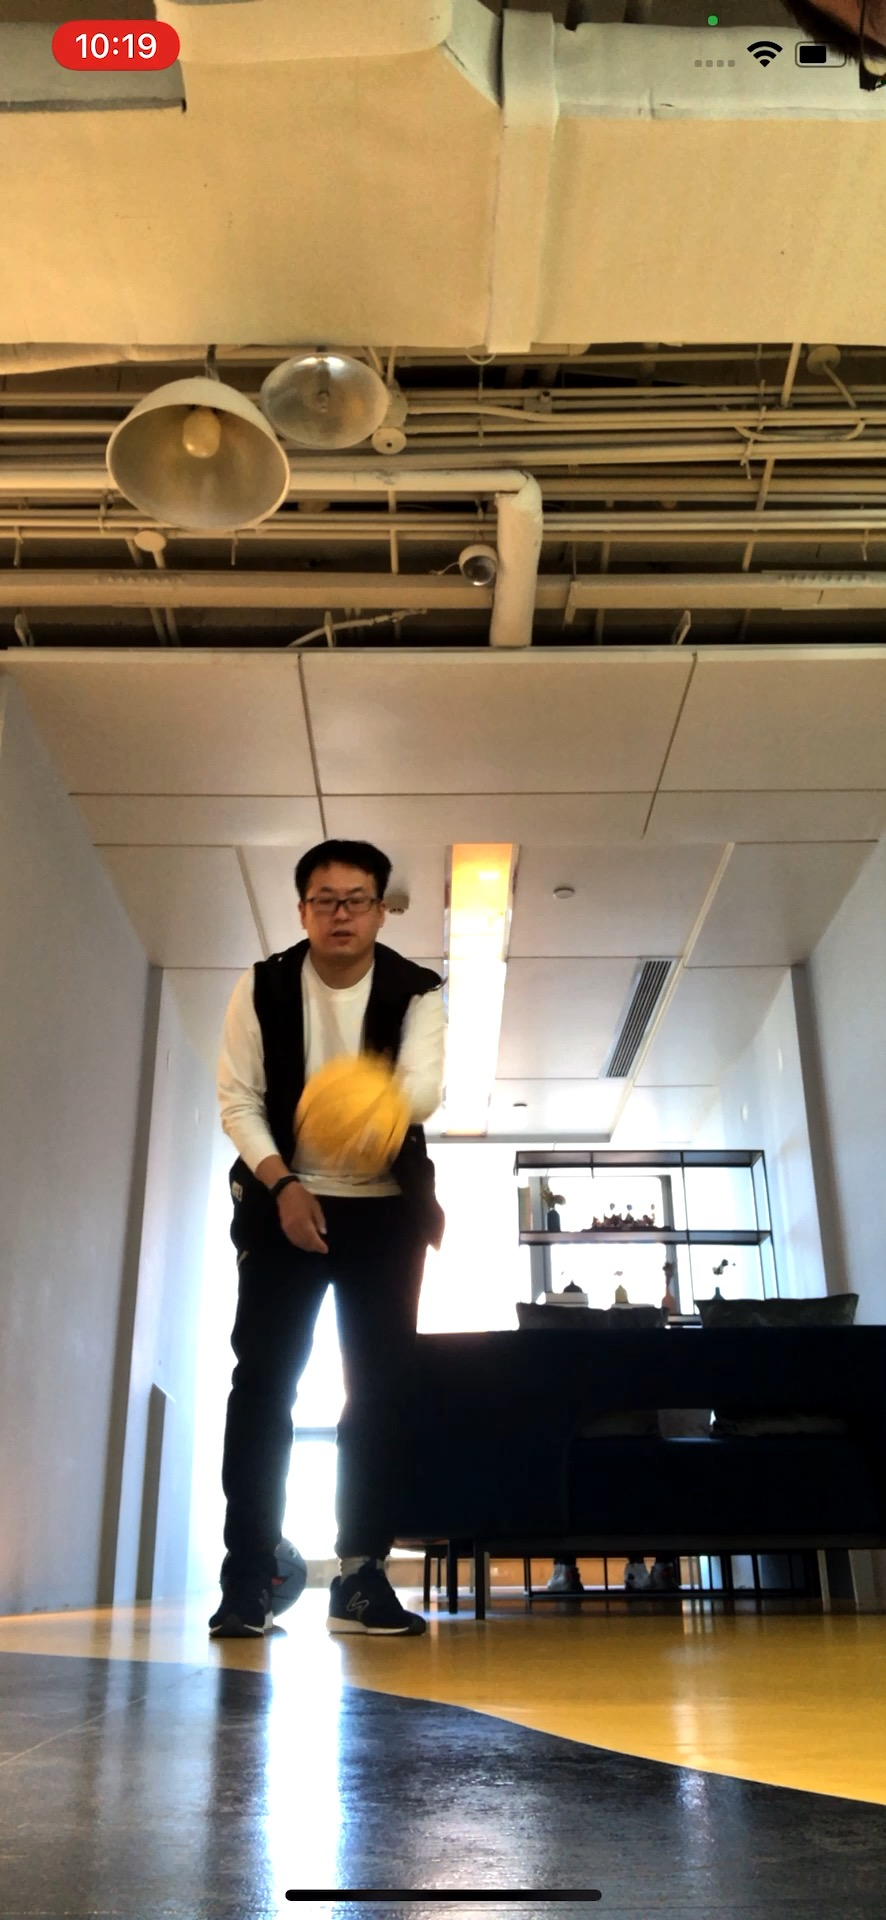ball: (296, 1053, 414, 1182)
